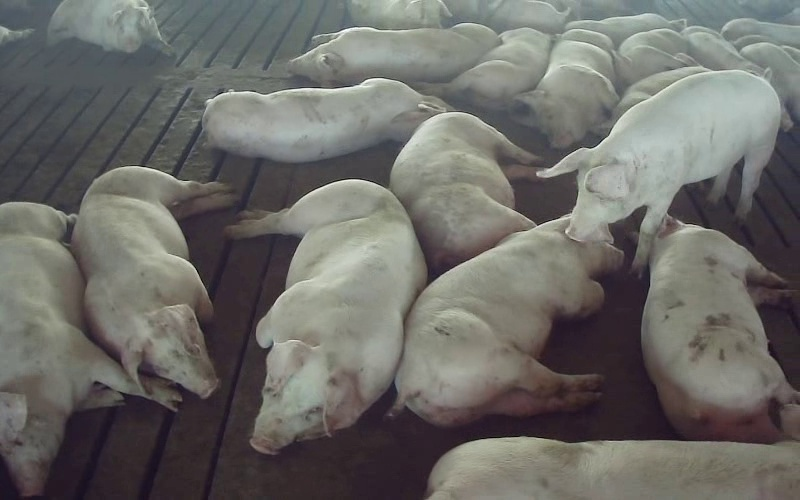pig: (226, 180, 426, 453), (539, 70, 780, 271), (391, 216, 622, 425), (641, 218, 799, 441), (390, 112, 537, 273), (427, 437, 799, 499), (202, 78, 447, 162), (287, 23, 499, 85), (509, 29, 618, 148), (419, 28, 550, 108), (47, 0, 170, 52)
